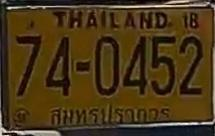0: (95, 35, 119, 95)
2: (179, 36, 202, 94)
4: (46, 36, 70, 96), (123, 36, 146, 94)
5: (151, 35, 175, 94)
7: (15, 35, 41, 96)
SPK: (47, 100, 174, 125)
